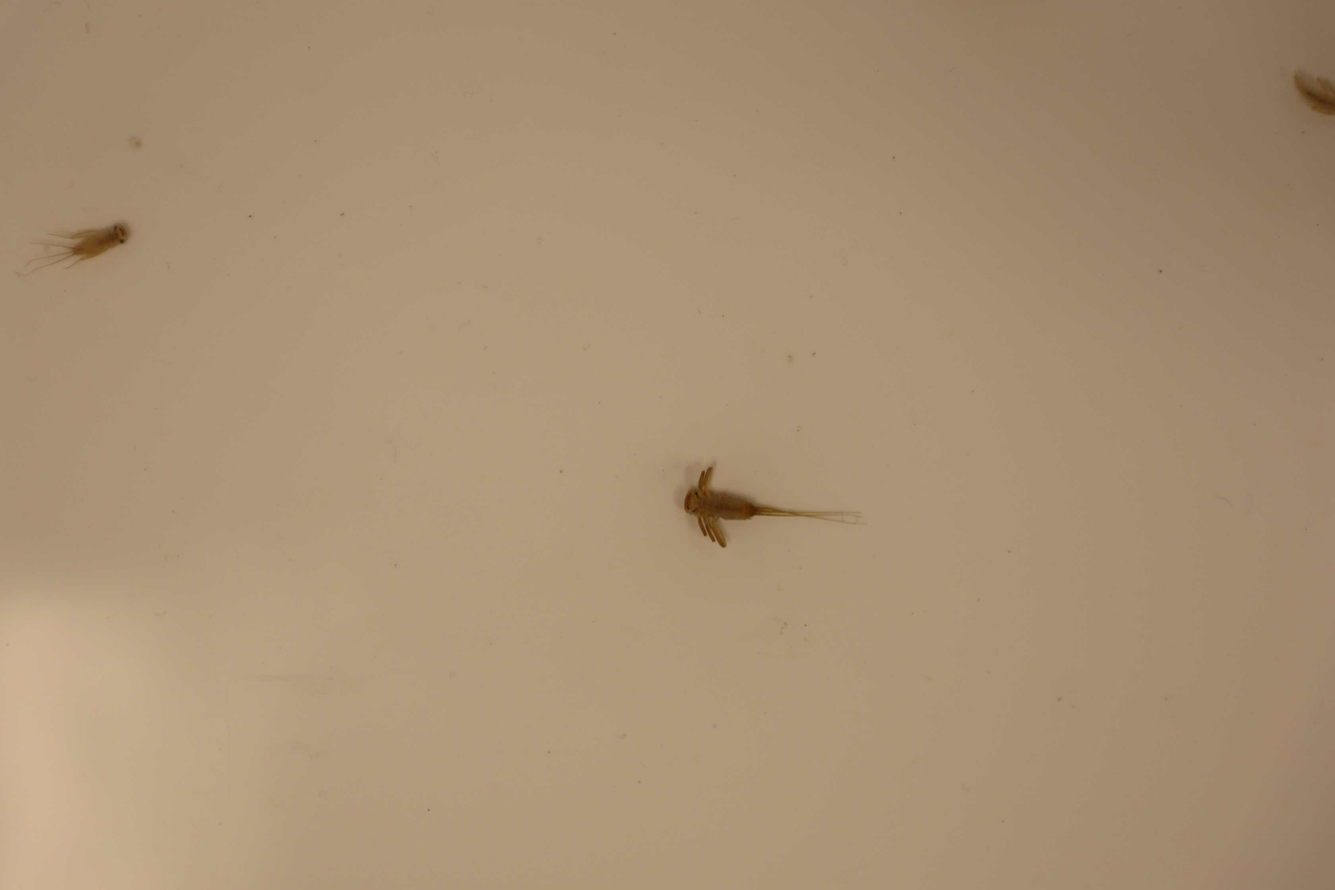Mayfly: (675, 460, 859, 555), (19, 208, 140, 280), (1286, 74, 1335, 136)
